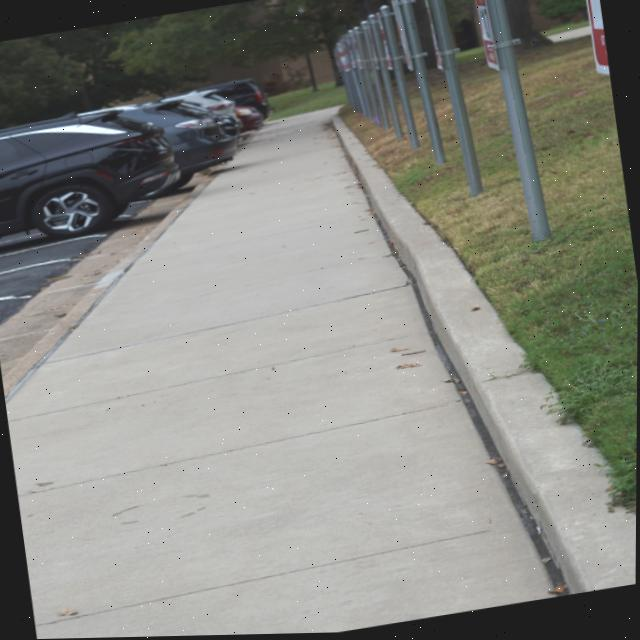Automobile: (0, 111, 180, 238), (123, 100, 239, 189), (196, 80, 273, 120), (216, 82, 272, 120), (171, 92, 237, 121), (236, 107, 264, 134)
Road: (0, 176, 202, 378)
Sidewalk: (6, 109, 556, 639)
